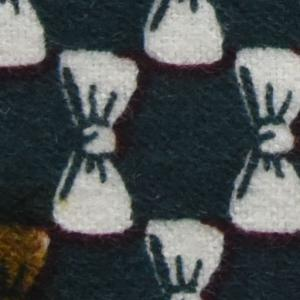Oil Stain: (1, 218, 53, 300)
Stain: (57, 197, 72, 213)
